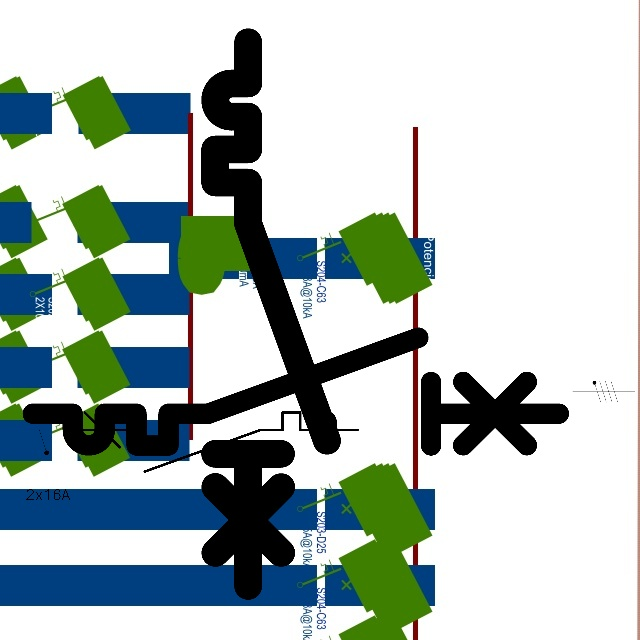interruptor_termomagnetico: (201, 28, 341, 599), (19, 324, 572, 459), (59, 405, 364, 479)
